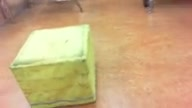cube: (9, 24, 96, 107)
